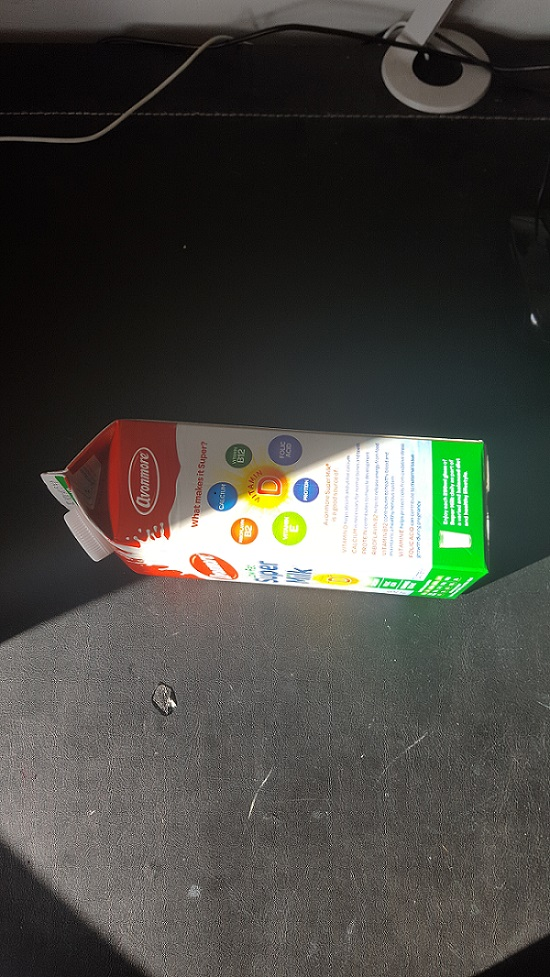Carton: (35, 408, 510, 624)
